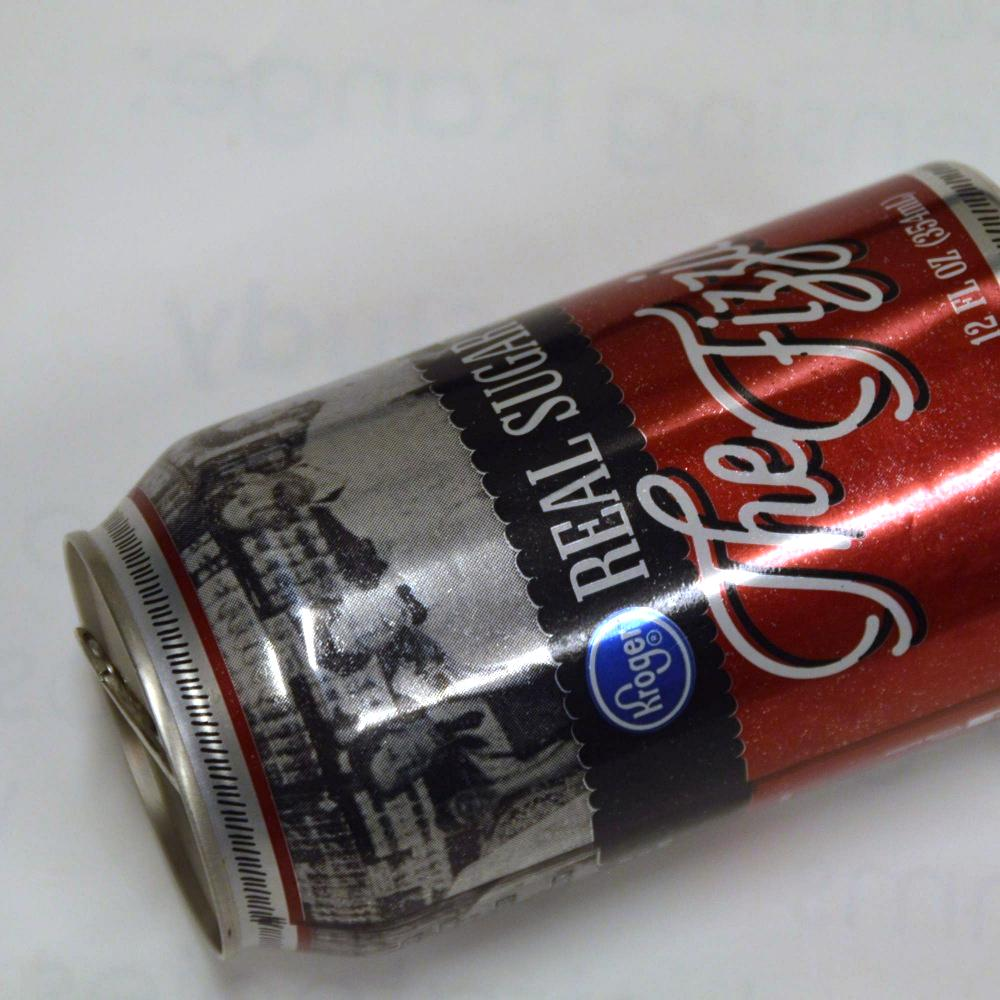Metal: (35, 158, 1000, 926)
